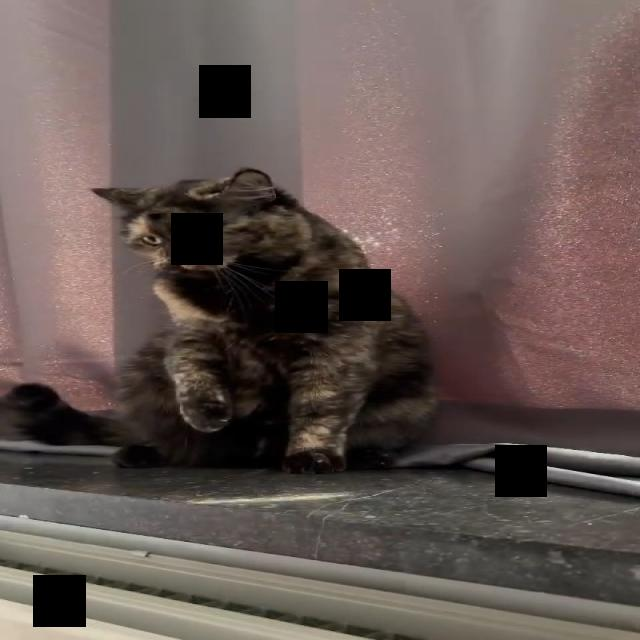authorized: (3, 166, 440, 474)
